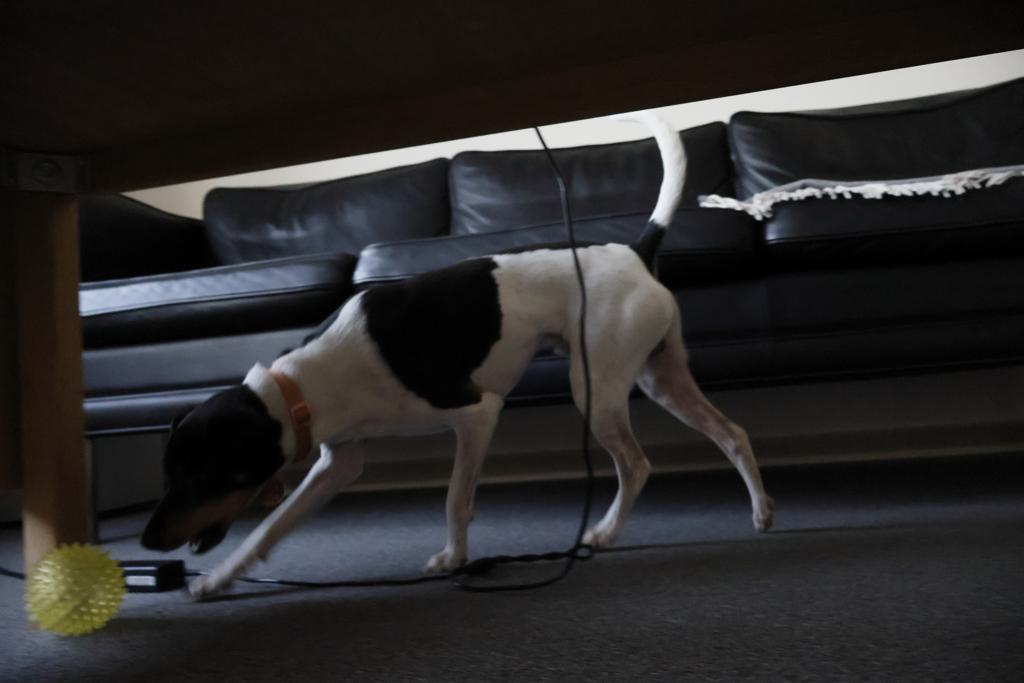Dog: (118, 106, 778, 604)
